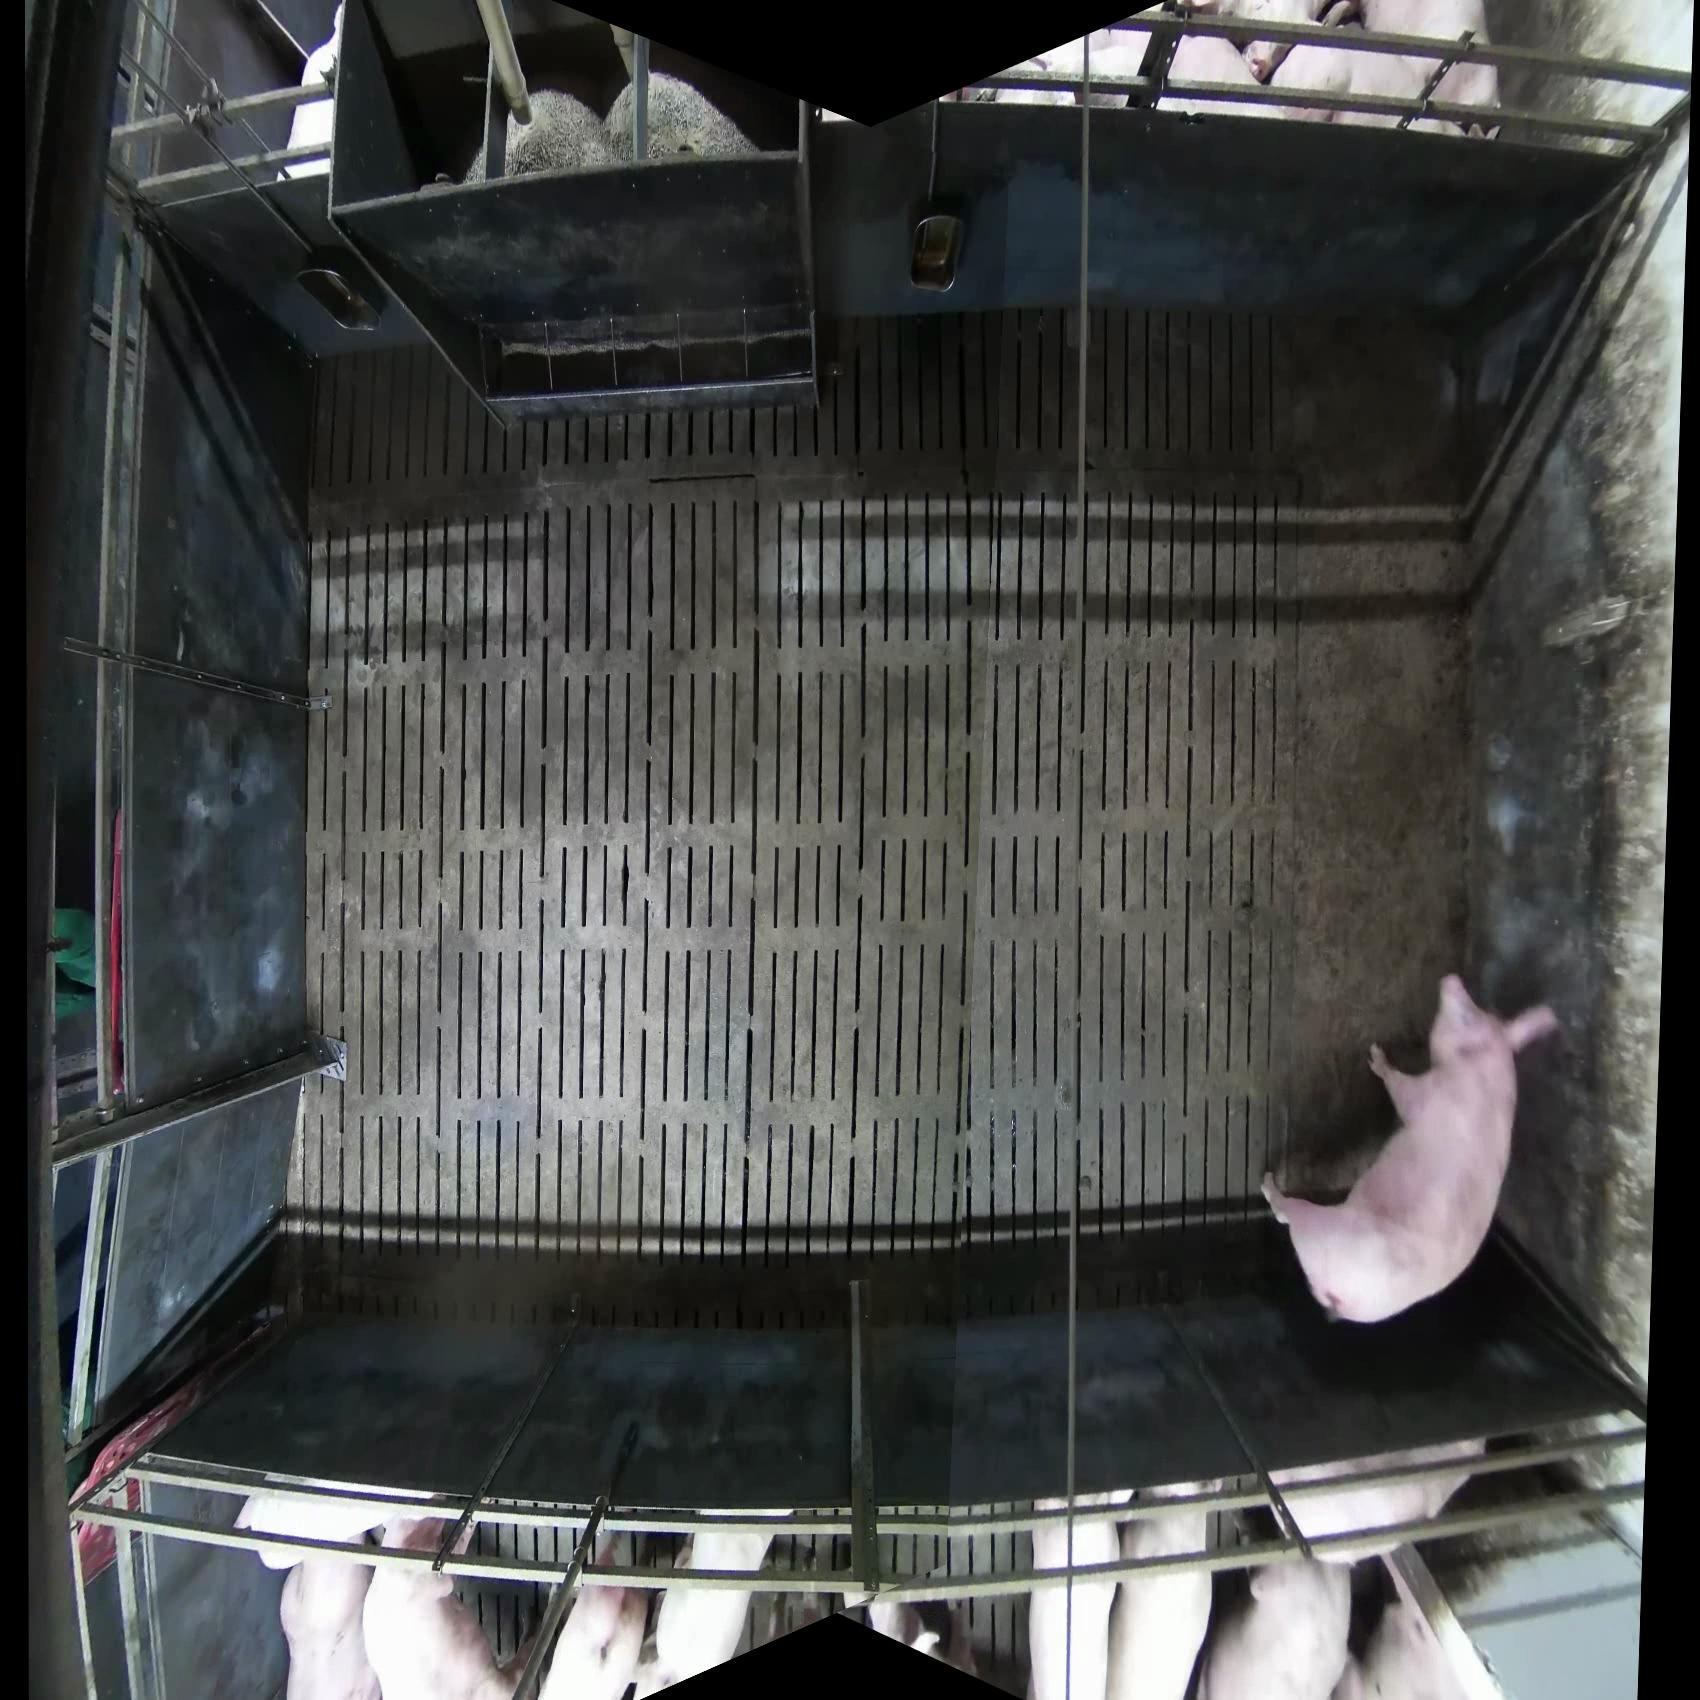pig: (1258, 971, 1560, 1326), (1259, 2, 1505, 139), (360, 1515, 518, 1698), (1191, 1544, 1358, 1700), (637, 1526, 777, 1698), (539, 1529, 657, 1698), (279, 1529, 381, 1698)
